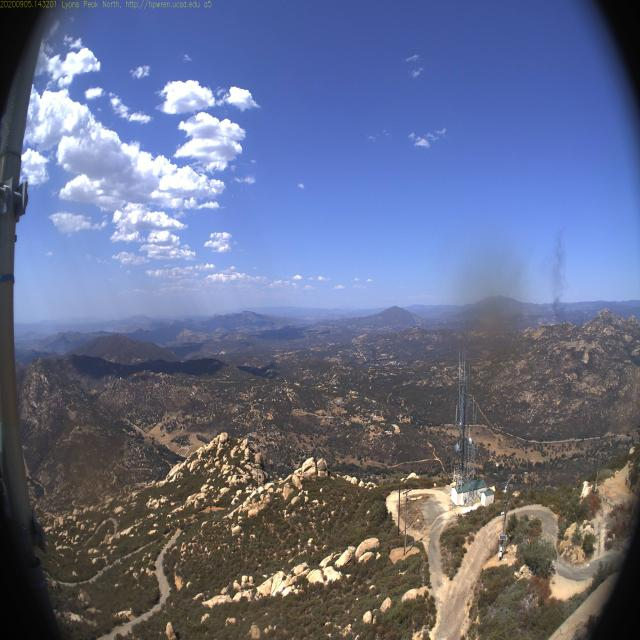smoke: (549, 222, 576, 333)
